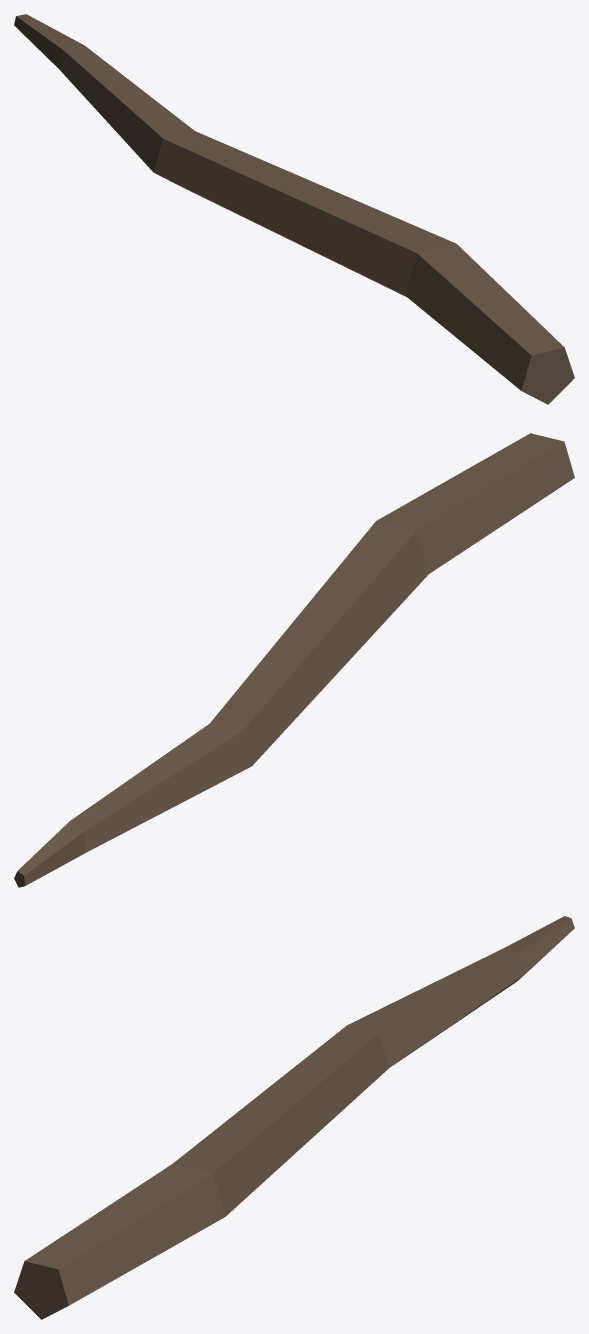
Rendered from Branch6.glb.
The picture shows the model from 3 angles, top to bottom: view 1: azimuth 30°, elevation 25°; view 2: azimuth 150°, elevation 25°; view 3: azimuth 330°, elevation 25°; orthographic projection. The views are drawn at different scales.
Parts seen in each view (by area): view 1: Branch_4; view 2: Branch_4; view 3: Branch_4.
Boxes of the visible parts, left/top/right/bottom form: Branch_4: left=14, top=14, right=574, bottom=404; Branch_4: left=14, top=433, right=574, bottom=887; Branch_4: left=14, top=916, right=574, bottom=1319.
Bounding box in the file's own units: 0.2122 × 0.1598 × 1.86.
1 material, 1 textured.
